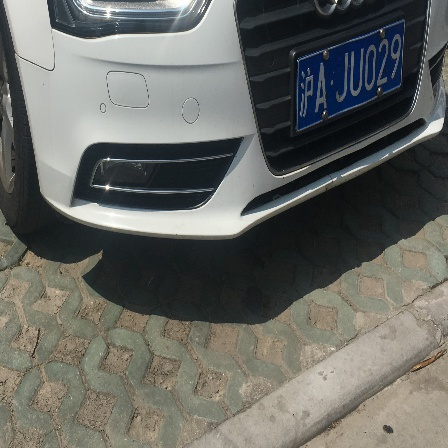plate: (296, 25, 408, 125)
